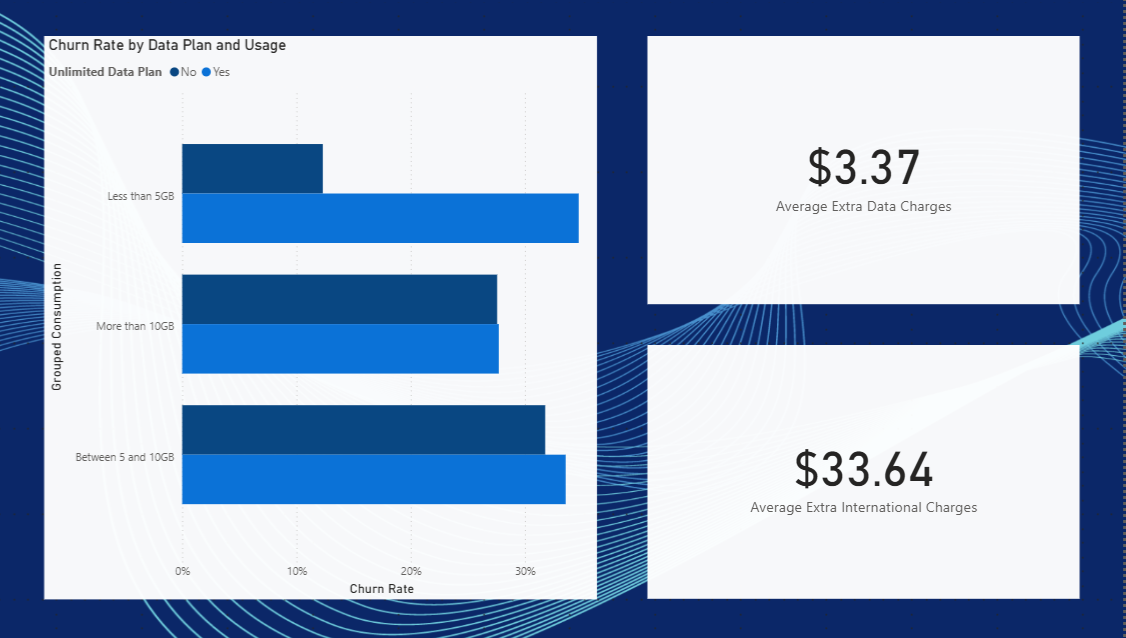

The page's visual inventory and layout, read from the dashboard file:
{"tool":"powerbi","page":{"name":"Extra Charges","canvas":[1280,720],"ordinal":14},"visuals":[{"type":"clusteredBarChart","title":"Churn Rate by Data Plan and Usage","fields":{"Category":["Databel - Data.Grouped Consumption"],"Y":["Databel - Data.Churn Rate"],"Series":["Databel - Data.Unlimited Data Plan"]},"box":[82,40,614,626],"z":0},{"type":"card","fields":{"Values":["Databel - Data.AVG Extra Data Charges"]},"box":[752,40,480,298],"z":1000},{"type":"card","fields":{"Values":["Databel - Data.AVG Extra International Charges"]},"box":[752,384,480,282],"z":2000}]}

Visuals, with their boxes in screenshot pixels (x1, y1, x2, y2), scaled from the page's 1280x720 canvas onto the 1126x638 screenshot:
"Churn Rate by Data Plan and Usage" clusteredBarChart: bbox=[72, 35, 612, 590]
card - Databel - Data.AVG Extra Data Charges: bbox=[662, 35, 1084, 300]
card - Databel - Data.AVG Extra International Charges: bbox=[662, 340, 1084, 590]
